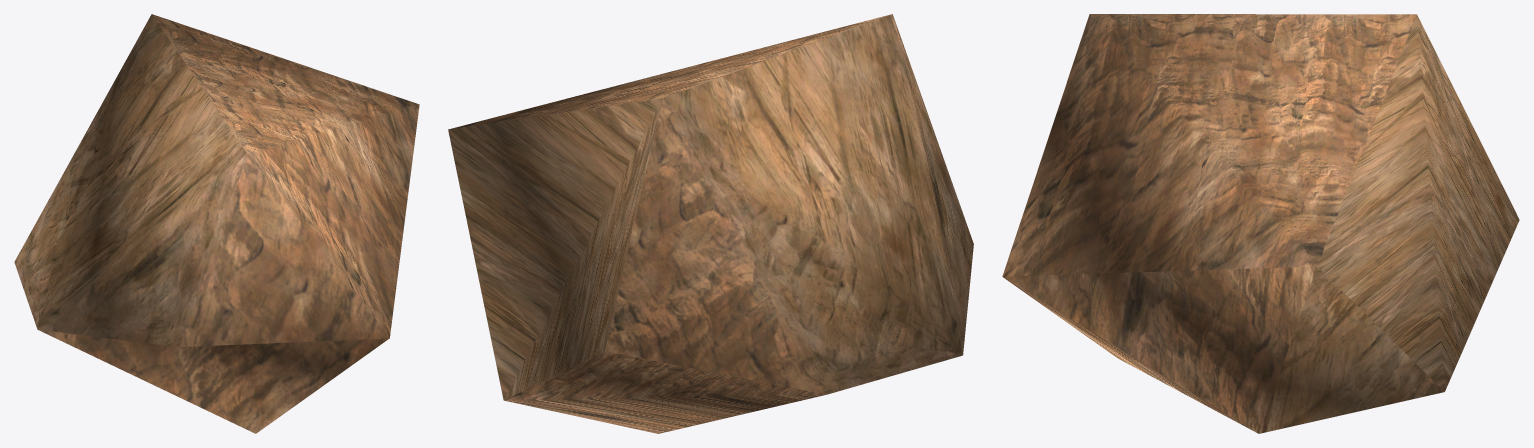
File: rock_tatt_bensmesa_boulder_l3.fbx
The picture shows the model from 3 angles, left to right: view 1: azimuth 30°, elevation 25°; view 2: azimuth 150°, elevation 25°; view 3: azimuth 270°, elevation 25°; orthographic projection. The views are drawn at different scales.
Visible parts, largest first — view 1: mesh_node; view 2: mesh_node; view 3: mesh_node.
Part boxes in pixels (box(x1,y1,x2,y2)): mesh_node: box(14, 14, 419, 433); mesh_node: box(448, 14, 973, 433); mesh_node: box(1002, 14, 1519, 433).
Bounding box in the file's own units: 3.28 × 2.44 × 3.18.
